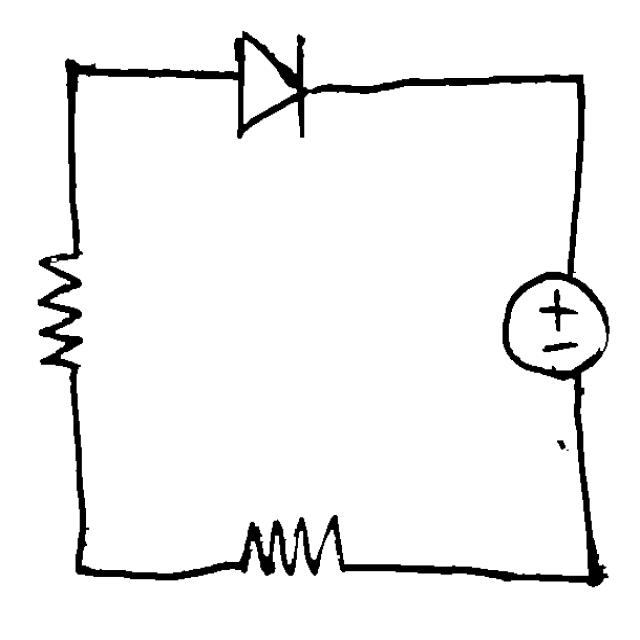dc: (497, 251, 614, 384)
diode: (212, 16, 328, 153)
resistor: (218, 497, 358, 590), (24, 231, 98, 383)
